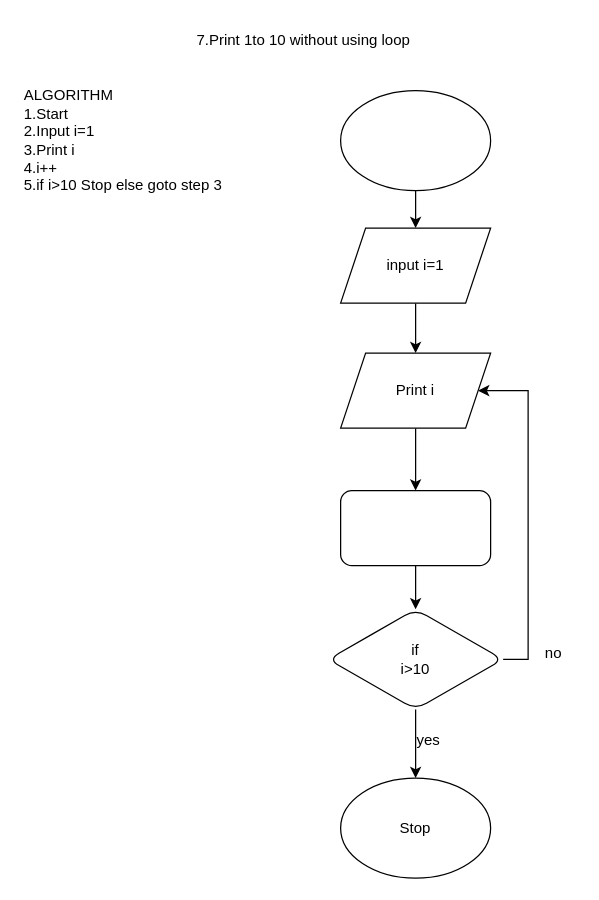
This 599x900 diagram has some shape labels left out. The shapes that lost their labels are listed below. From the top down, each one's centre as x and y in pixels, then its label:
At [415,140]: "Start".
At [415,527]: "i++".
